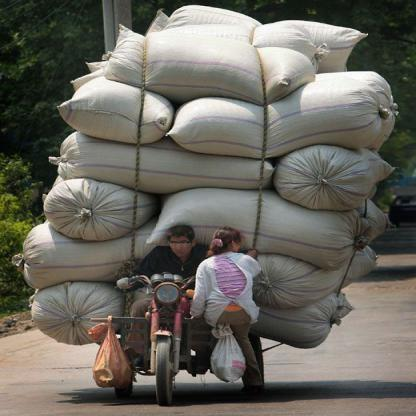overloaded-truck: (6, 0, 375, 346)
